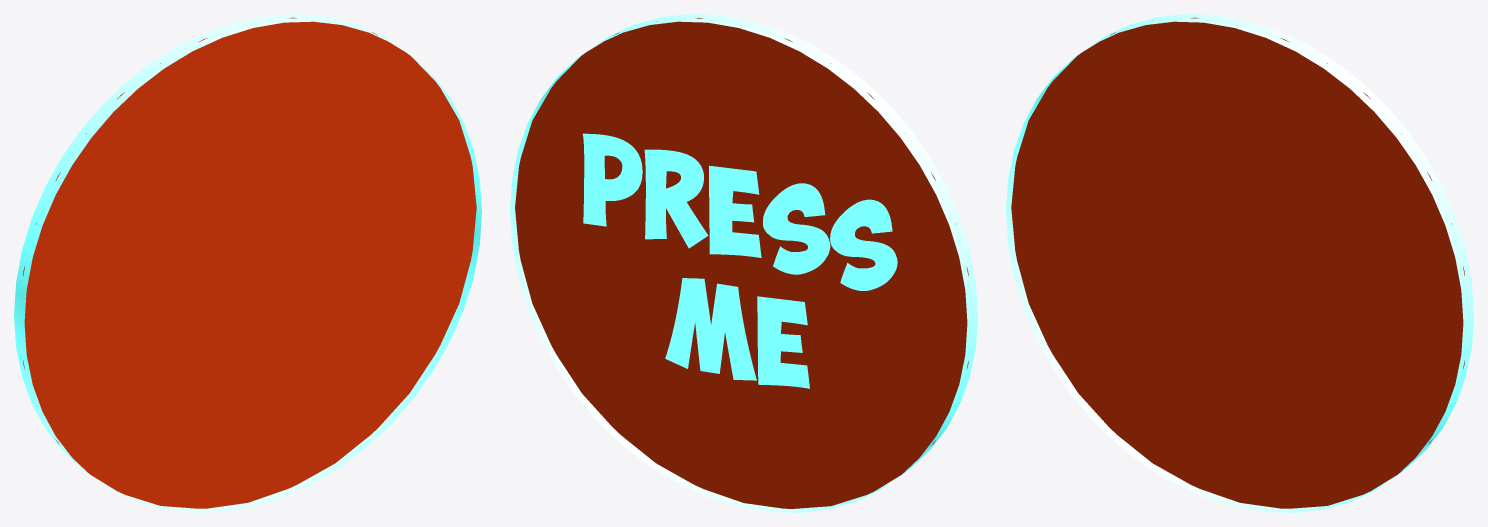
The model's file is PRESS_ME.glb.
The picture shows the model from 3 angles, left to right: view 1: azimuth 30°, elevation 25°; view 2: azimuth 150°, elevation 25°; view 3: azimuth 330°, elevation 25°; orthographic projection.
Parts seen in each view (by area): view 1: Circle, BezierCircle.001; view 2: Circle, Text, BezierCircle.001; view 3: Circle, BezierCircle.001.
Boxes of the visible parts, x1=… form: Circle: x1=23, y1=17, x2=476, y2=508; BezierCircle.001: x1=14, y1=14, x2=481, y2=512; Circle: x1=515, y1=18, x2=968, y2=508; Text: x1=583, y1=133, x2=897, y2=388; BezierCircle.001: x1=510, y1=14, x2=977, y2=512; Circle: x1=1011, y1=17, x2=1464, y2=508; BezierCircle.001: x1=1006, y1=14, x2=1473, y2=512.
Size of what is drawn, in the model's own units: 2.72 by 2.72 by 0.1088.
